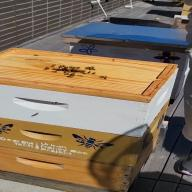Bee: (94, 74, 116, 82)
